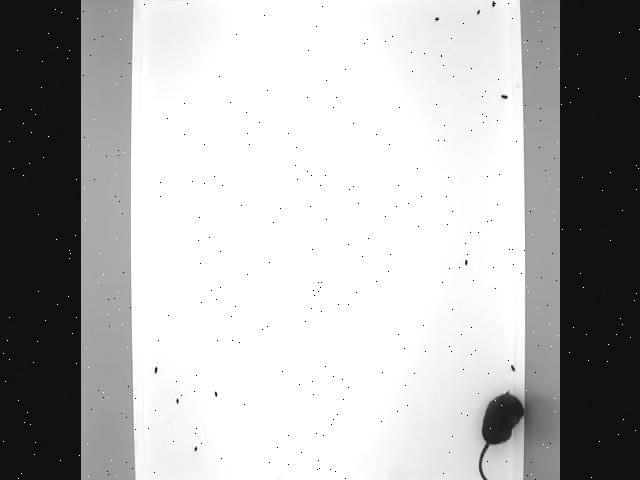Tikus: (475, 391, 527, 480)
